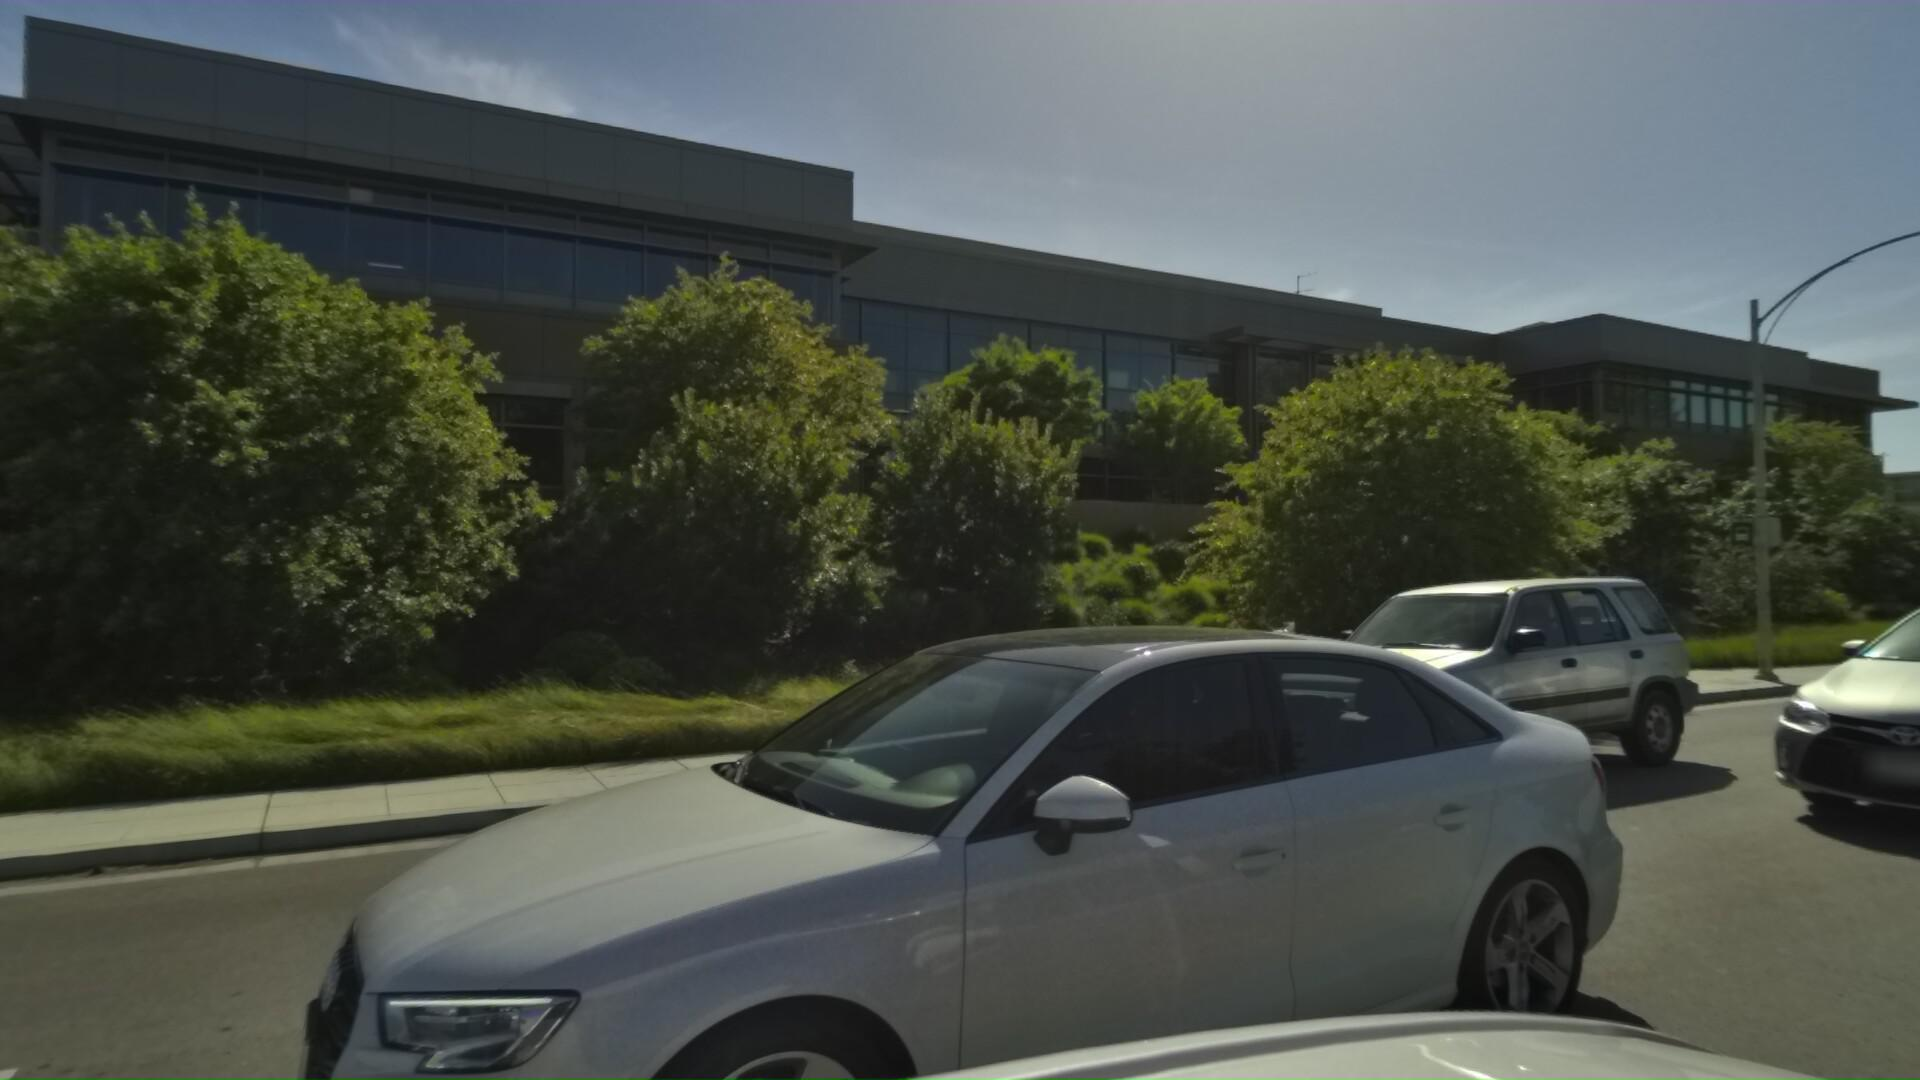car: (0, 595, 1662, 1080), (1154, 564, 1695, 828), (1696, 585, 1920, 922)
